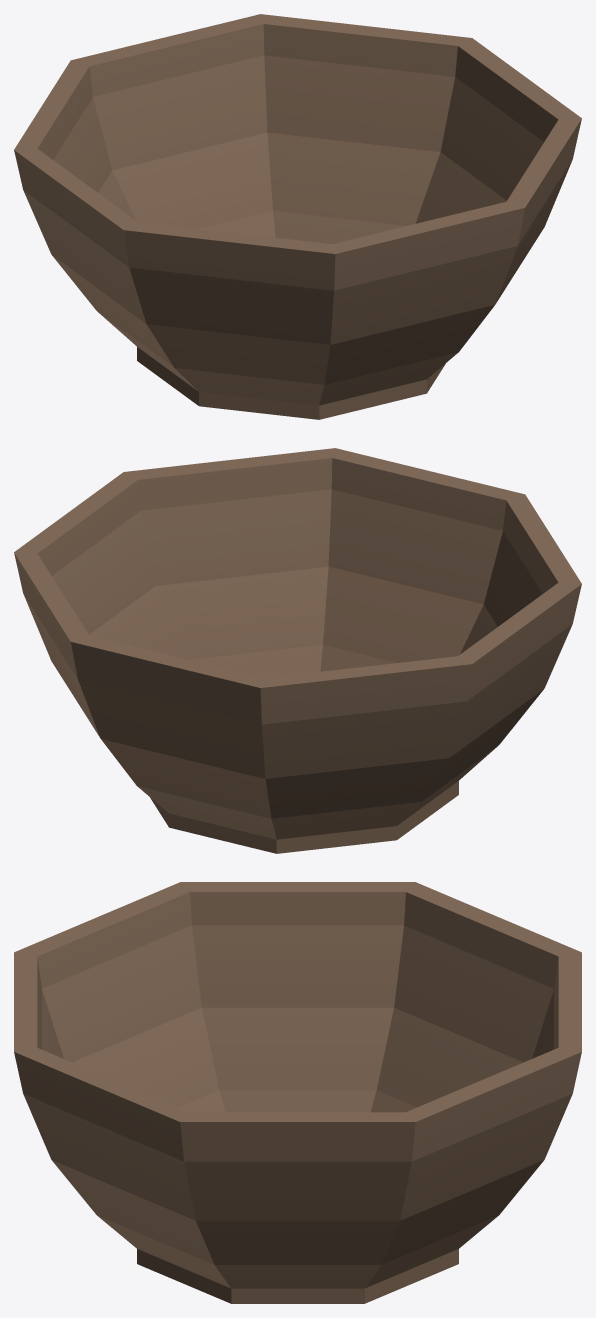
The model's file is Plate4_C5.fbx.
3 views of the same model, one above another, from view 1: azimuth 30°, elevation 25°; view 2: azimuth 150°, elevation 25°; view 3: azimuth 270°, elevation 25° (orthographic). The views are drawn at different scales.
Visible parts, largest first — view 1: Plate4_C5; view 2: Plate4_C5; view 3: Plate4_C5.
Part boxes in pixels (bbox=[...]): Plate4_C5: bbox=[14, 14, 581, 419]; Plate4_C5: bbox=[14, 448, 581, 853]; Plate4_C5: bbox=[14, 882, 581, 1303].
Bounding box in the file's own units: 17.94 × 8.15 × 17.94.
